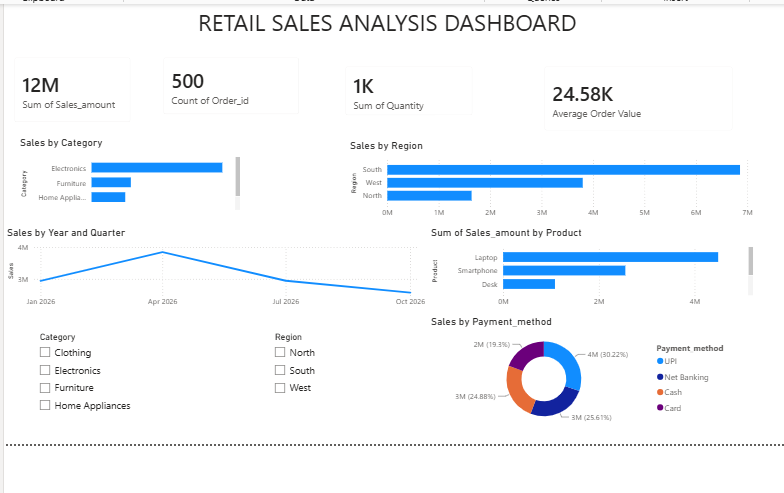

The page's visual inventory and layout, read from the dashboard file:
{"tool":"powerbi","page":{"name":"Page 1","canvas":[1280,720],"ordinal":0},"visuals":[{"type":"cardVisual","fields":{"Data":["Sum(Table1.Sales_amount)"]},"box":[0,70.4,224.2,140.8],"z":0},{"type":"cardVisual","fields":{"Data":["CountNonNull(Table1.Order_id)"]},"box":[243.9,70.4,257,127.7],"z":1000},{"type":"cardVisual","fields":{"Data":["Sum(Table1.Quantity)"]},"box":[541.8,85.1,242.3,114.6],"z":2000},{"type":"cardVisual","fields":{"Data":["Table1.Average Order Value"]},"box":[867.5,85.1,342.1,139.1],"z":3000},{"type":"clusteredBarChart","fields":{"Category":["Table1.Category"],"Y":["Sum(Table1.Sales_amount)"]},"box":[21.3,216.1,369.9,126],"z":4000},{"type":"clusteredBarChart","fields":{"Category":["Table1.Region"],"Y":["Sum(Table1.Sales_amount)"]},"box":[561.4,221,669.5,139.1],"z":5000},{"type":"lineChart","fields":{"Y":["Sum(Table1.Sales_amount)"],"Category":["Table1.Order_date.Variation.Date Hierarchy.Year","Table1.Order_date.Variation.Date Hierarchy.Quarter","Table1.Order_date.Variation.Date Hierarchy.Month","Table1.Order_date.Variation.Date Hierarchy.Day"]},"box":[0,363.4,694,142.4],"z":6000},{"type":"clusteredBarChart","fields":{"Y":["Sum(Table1.Sales_amount)"],"Category":["Table1.Product"]},"box":[694,363.4,536.9,142.4],"z":7000},{"type":"slicer","fields":{"Values":["Table1.Category"]},"box":[45.8,532,301.2,144],"z":8000},{"type":"slicer","fields":{"Values":["Table1.Region"]},"box":[430.5,532,306.1,144],"z":9000},{"type":"textbox","box":[313.3,0,653.3,85],"z":10000},{"type":"donutChart","fields":{"Category":["Table1.Payment_method"],"Y":["Sum(Table1.Sales_amount)"]},"box":[694,509.1,504.1,188.2],"z":11000}]}

Visuals, with their boxes on the page's 1280x720 design canvas (x1, y1, x2, y2). These are canvas units, not pixel positions in the 784x493 screenshot, which may show the page scaled, cropped or inside an application window:
cardVisual - Sum(Table1.Sales_amount): BBox(0, 70, 224, 211)
cardVisual - CountNonNull(Table1.Order_id): BBox(244, 70, 501, 198)
cardVisual - Sum(Table1.Quantity): BBox(542, 85, 784, 200)
cardVisual - Table1.Average Order Value: BBox(868, 85, 1210, 224)
clusteredBarChart - Table1.Category x Sum(Table1.Sales_amount): BBox(21, 216, 391, 342)
clusteredBarChart - Table1.Region x Sum(Table1.Sales_amount): BBox(561, 221, 1231, 360)
lineChart - Sum(Table1.Sales_amount) x Table1.Order_date.Variation.Date Hierarchy.Year: BBox(0, 363, 694, 506)
clusteredBarChart - Sum(Table1.Sales_amount) x Table1.Product: BBox(694, 363, 1231, 506)
slicer - Table1.Category: BBox(46, 532, 347, 676)
slicer - Table1.Region: BBox(430, 532, 737, 676)
textbox: BBox(313, 0, 967, 85)
donutChart - Table1.Payment_method x Sum(Table1.Sales_amount): BBox(694, 509, 1198, 697)
